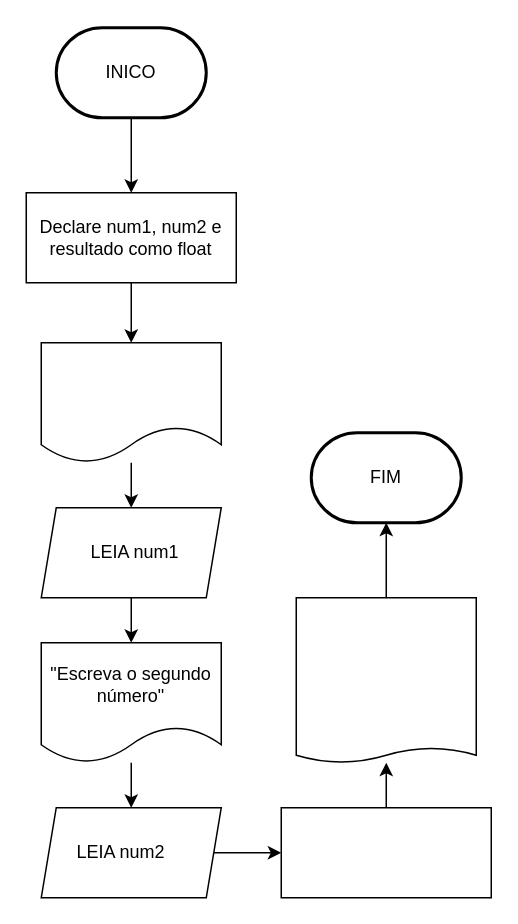
This 518x924 diagram has some shape labels left out. The box of each missing label's shape, as (x1, y1, x2, y2) in pixels:
"Escreva o primeiro número": (40, 341, 221, 463)
"O Resultado da divisão entre {num1} e {num2} é {resultado}: (295, 596, 476, 763)
resultado = num1/num2: (280, 806, 491, 898)
